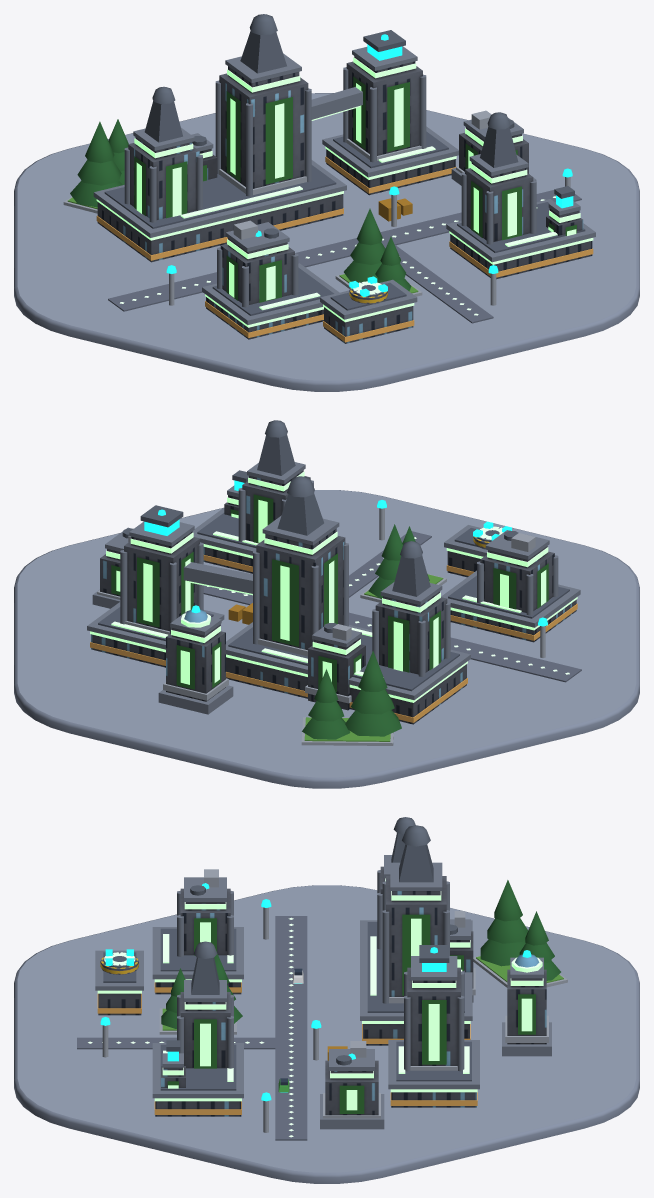
File: district_scifi_green.glb
3 views of the same model, one above another, from view 1: azimuth 30°, elevation 25°; view 2: azimuth 150°, elevation 25°; view 3: azimuth 270°, elevation 25° (orthographic).
Parts seen in each view (by area): view 1: district_scifi_green; view 2: district_scifi_green; view 3: district_scifi_green.
Boxes of the visible parts, x1,y1,x2,y2 form: district_scifi_green: [14, 14, 639, 391]; district_scifi_green: [14, 420, 639, 788]; district_scifi_green: [14, 817, 639, 1183].
Bounding box in the file's own units: 1.92 × 0.6313 × 1.75.
Materials: 3 (1 with a texture image).
